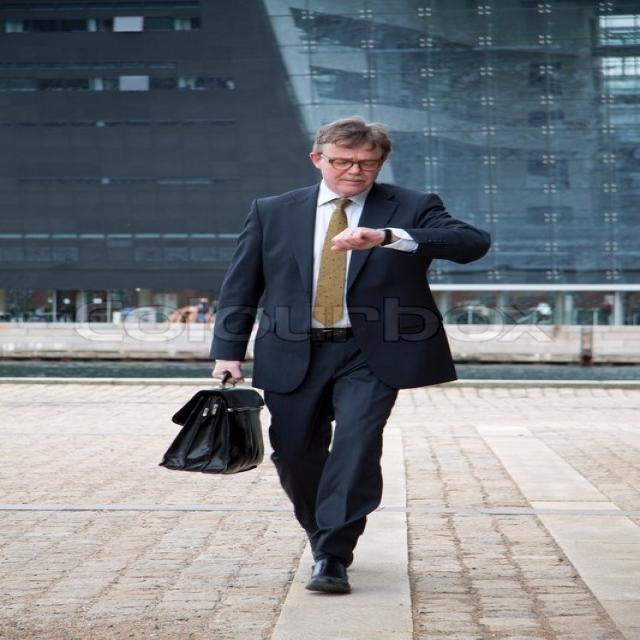Person: (160, 118, 488, 593)
